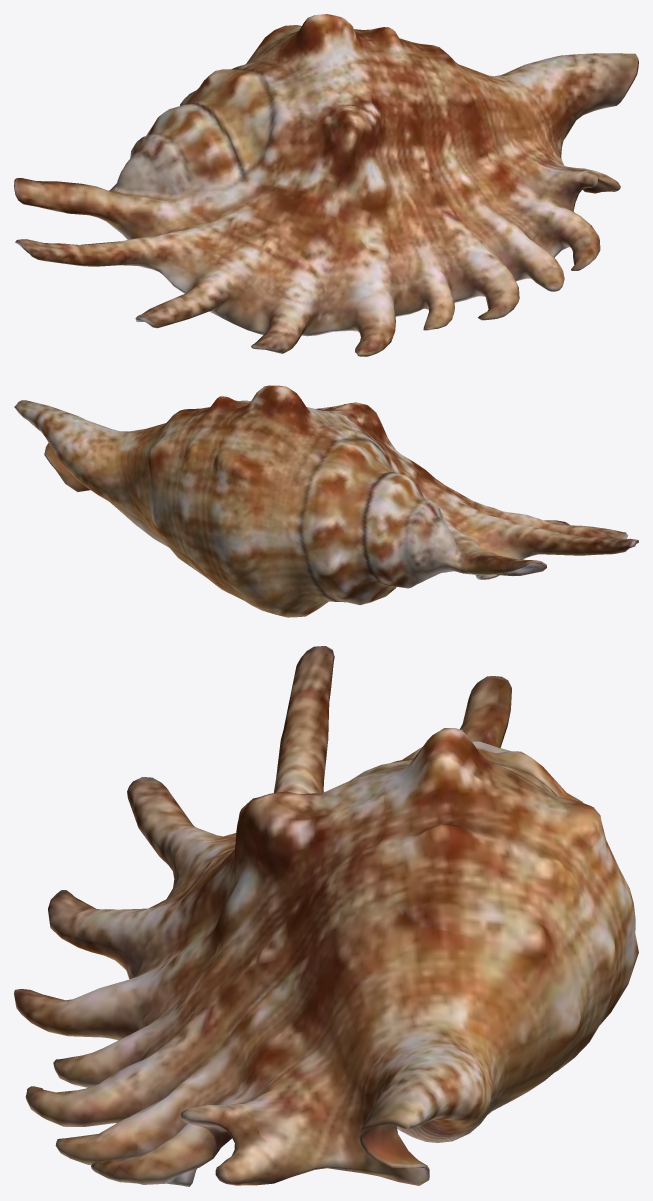
The model's file is seashell.glb.
3 renders of one model, top to bottom at view 1: azimuth 30°, elevation 25°; view 2: azimuth 150°, elevation 25°; view 3: azimuth 270°, elevation 25°, orthographic. The views are drawn at different scales.
Visible parts, largest first — view 1: lambis_shell; view 2: lambis_shell; view 3: lambis_shell.
Boxes of the visible parts, x1,y1,x2,y2 form: lambis_shell: (14, 14, 638, 356); lambis_shell: (14, 385, 638, 617); lambis_shell: (14, 646, 638, 1186).
Bounding box in the file's own units: 0.1395 × 0.0465 × 0.0745.
Materials: 1 (1 with a texture image).
